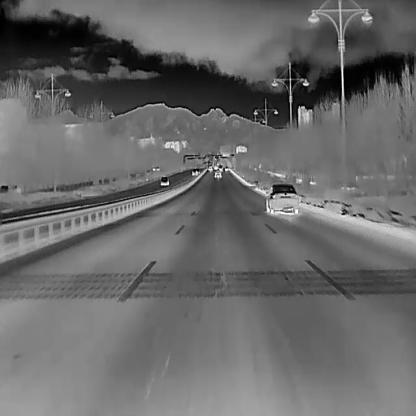car: (265, 182, 298, 214), (159, 175, 169, 185), (191, 167, 200, 176), (213, 169, 221, 178), (216, 164, 223, 169), (208, 165, 212, 171), (224, 164, 228, 170)
